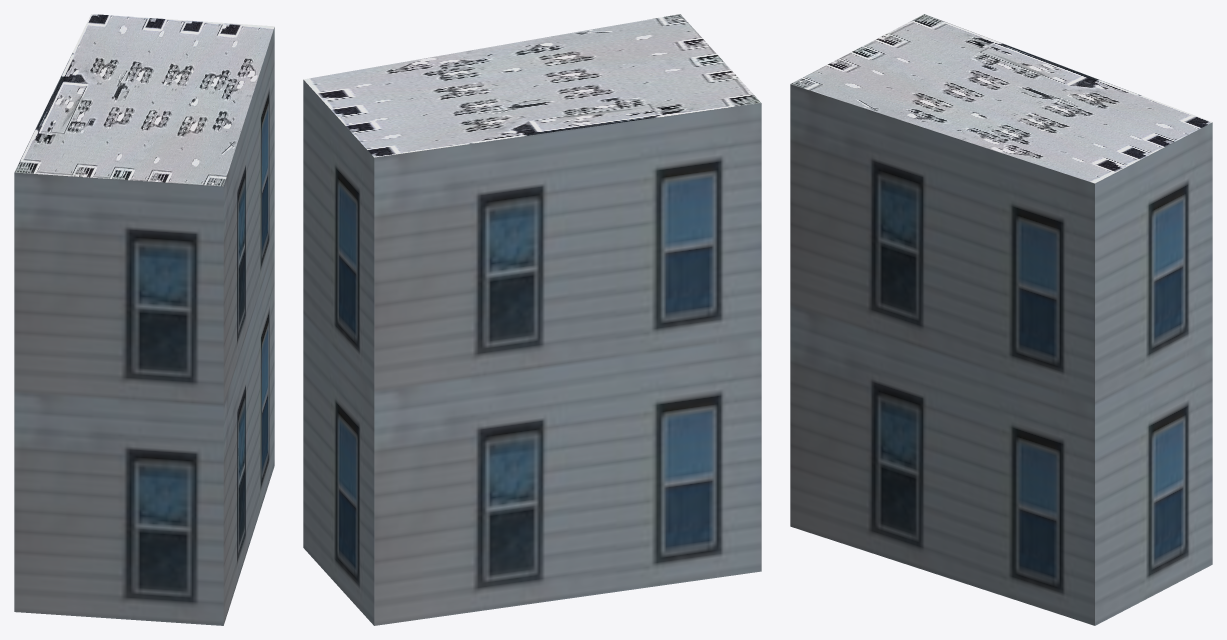
File: ResTex__286.fbx
3 views of the same model, side by side, from view 1: azimuth 30°, elevation 25°; view 2: azimuth 150°, elevation 25°; view 3: azimuth 270°, elevation 25° (orthographic). The views are drawn at different scales.
Visible parts, largest first — view 1: CityEngineMaterial_18_m, CityEngineMaterial_2_m; view 2: CityEngineMaterial_18_m, CityEngineMaterial_2_m; view 3: CityEngineMaterial_18_m, CityEngineMaterial_2_m.
Part boxes in pixels (x1=…): CityEngineMaterial_18_m: x1=14, y1=27, x2=274, y2=625; CityEngineMaterial_2_m: x1=14, y1=14, x2=274, y2=186; CityEngineMaterial_18_m: x1=303, y1=80, x2=761, y2=625; CityEngineMaterial_2_m: x1=303, y1=14, x2=760, y2=157; CityEngineMaterial_18_m: x1=790, y1=84, x2=1212, y2=625; CityEngineMaterial_2_m: x1=790, y1=14, x2=1212, y2=183.
Size of the model in its own units: 4.93 by 6 by 5.19.
Materials: 2 (2 with a texture image).
